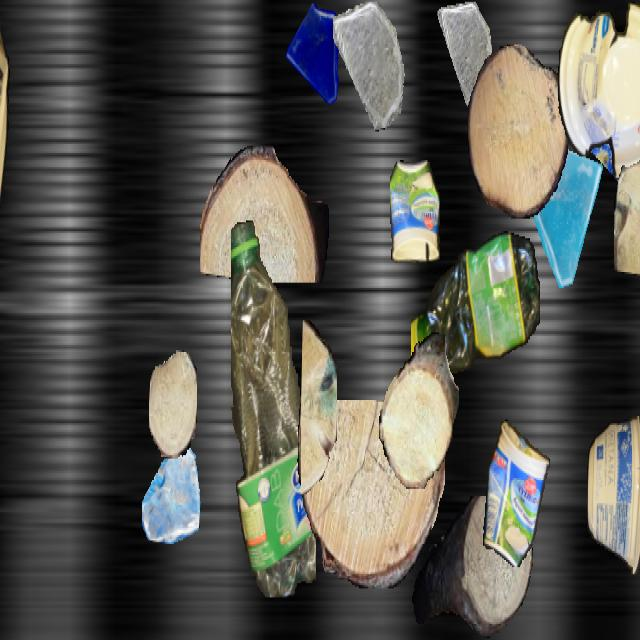glass: (522, 134, 612, 294), (568, 54, 640, 220), (333, 2, 405, 130), (285, 1, 349, 116), (142, 439, 200, 542), (437, 2, 495, 105)
plastic: (231, 218, 315, 596), (411, 224, 539, 388), (558, 2, 640, 180), (481, 420, 551, 566), (587, 416, 640, 572), (390, 160, 440, 263), (0, 2, 14, 272)
wood: (297, 400, 445, 588), (411, 496, 533, 638), (468, 45, 568, 218), (200, 146, 328, 281), (379, 332, 459, 489), (301, 320, 337, 494), (149, 350, 197, 457), (614, 156, 640, 278)
